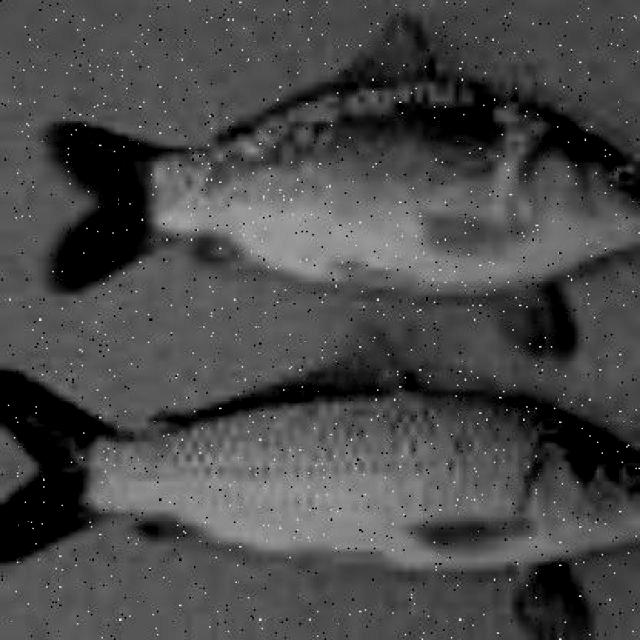ikan-mas: (0, 352, 640, 617), (49, 25, 640, 294)
